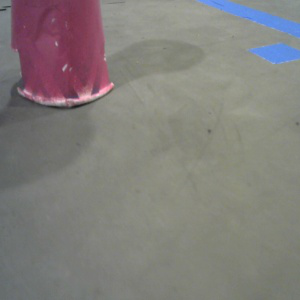middle: (11, 1, 114, 106)
